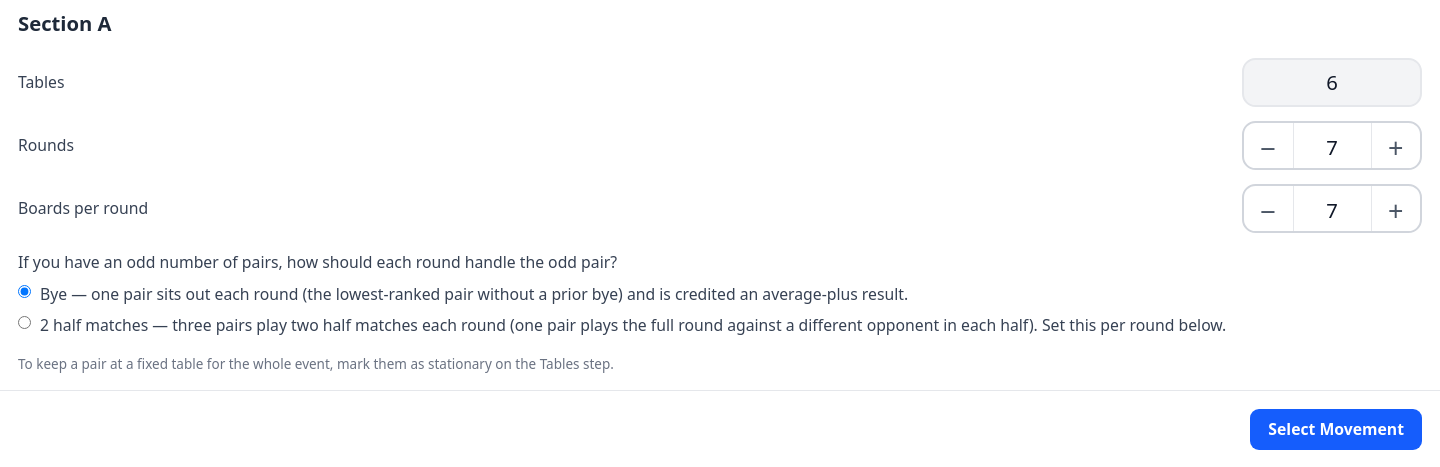
Test: SectionMovementPicker › disables the Swiss confirm button while a save is in flight
The width and height of the screenshot is (1440, 467).
Click the button "Select Movement" at (1336, 430), box [1250, 410, 1422, 450]
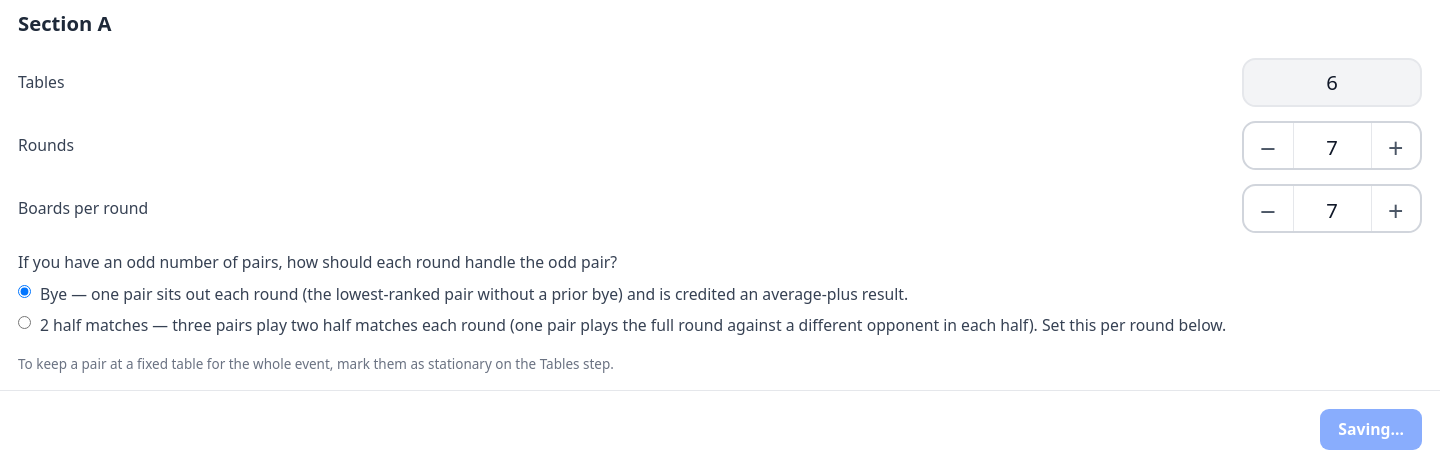
expect the button "Saving…" is disabled: met, box [1320, 410, 1422, 450]
